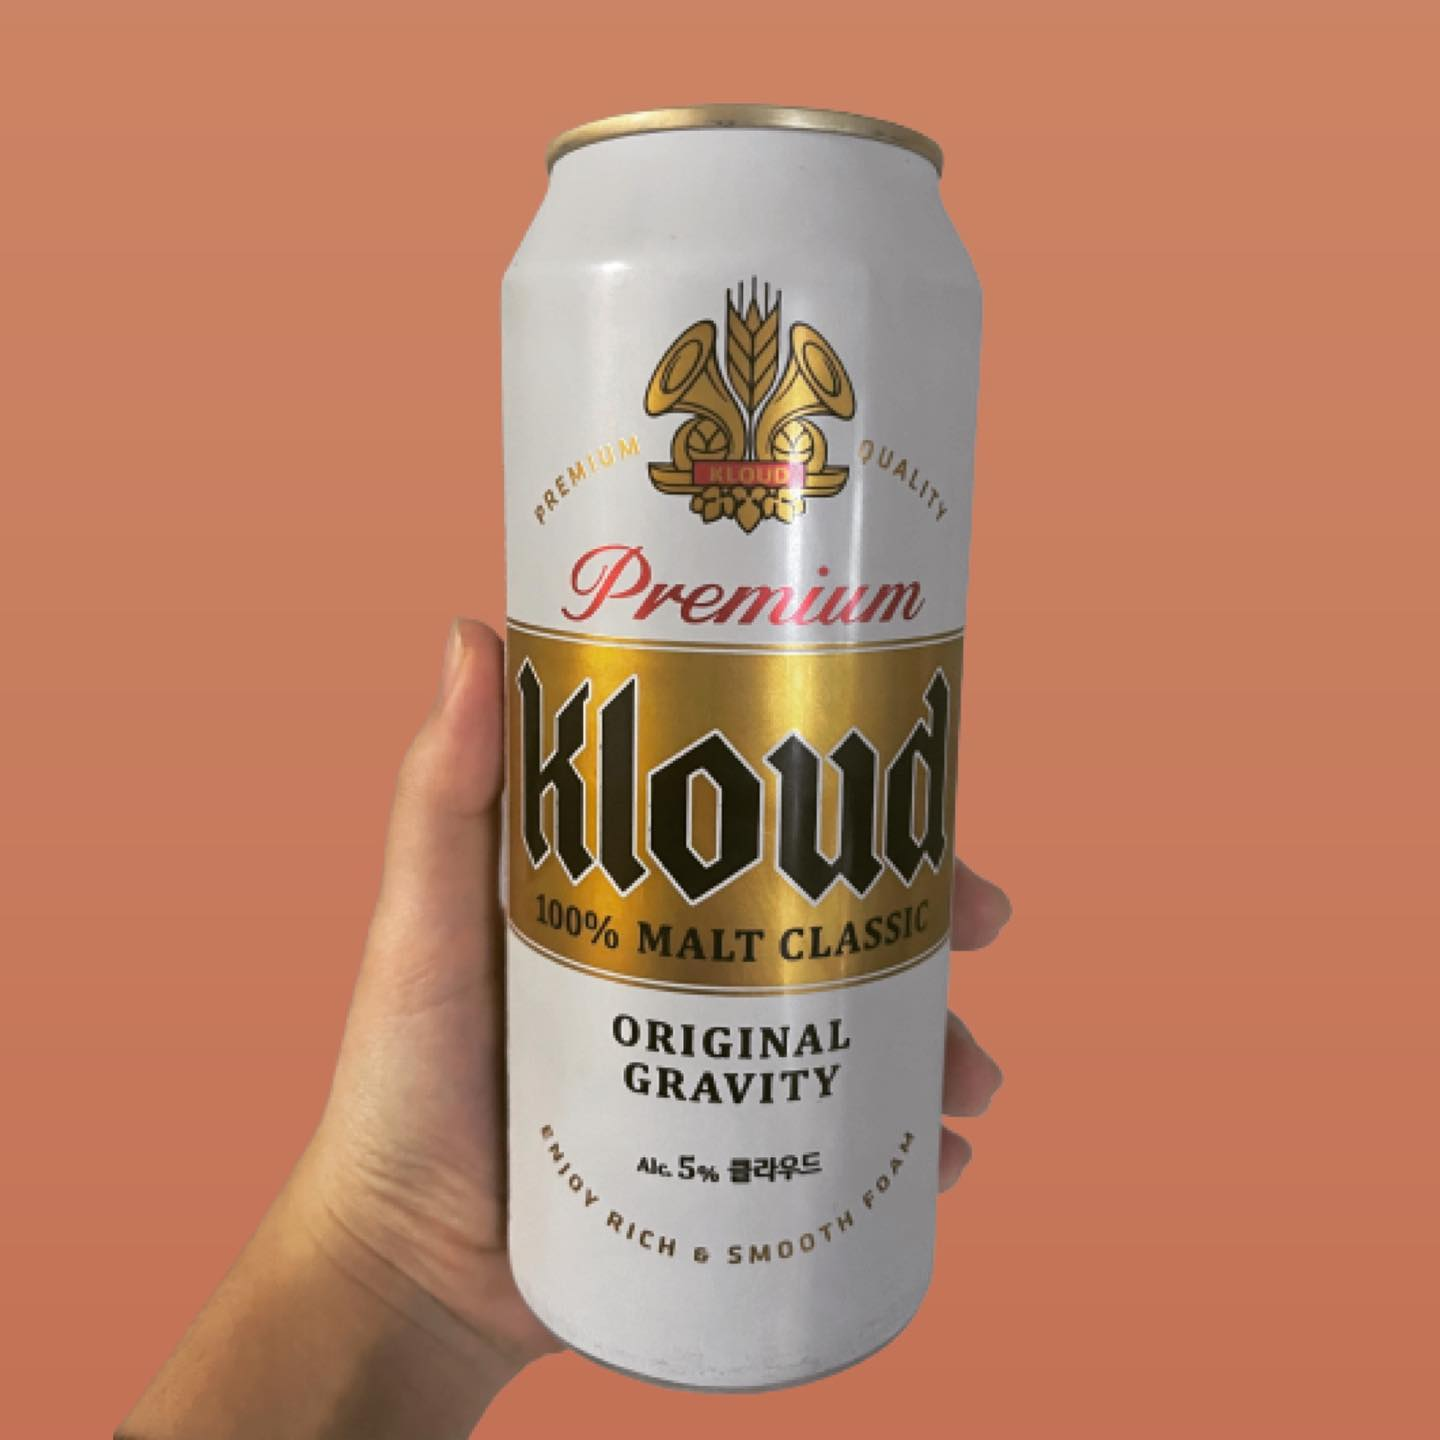alcohol: (491, 98, 994, 1404)
